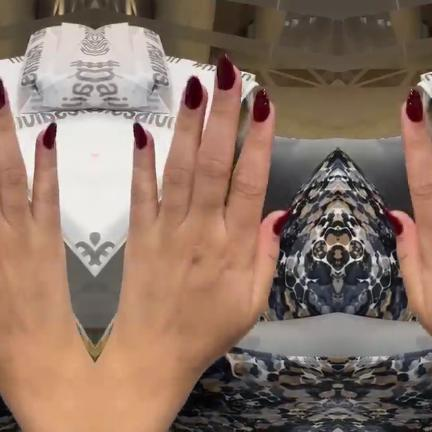Nail: (216, 55, 234, 90), (184, 75, 202, 110), (252, 89, 269, 122), (405, 89, 422, 122), (272, 213, 289, 235), (385, 213, 402, 235), (132, 123, 146, 149), (42, 123, 56, 149), (0, 78, 4, 109)
